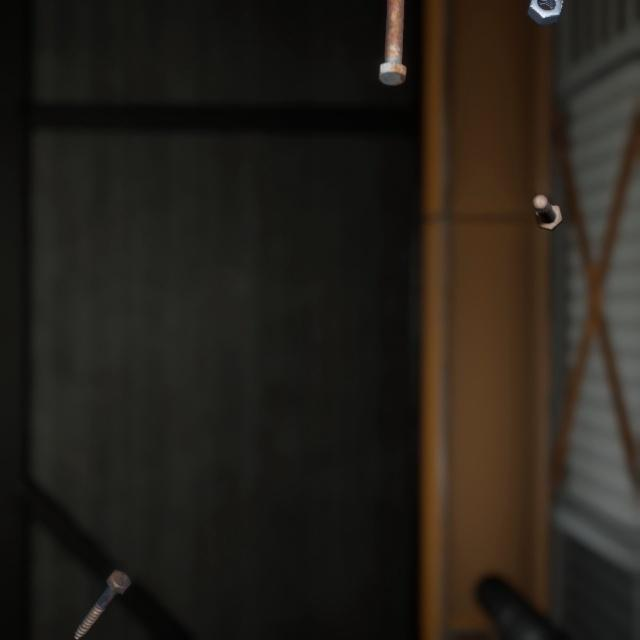bolt: (69, 542, 135, 620), (374, 0, 411, 83), (528, 174, 567, 220), (235, 610, 276, 640)
nut: (522, 0, 566, 22)
